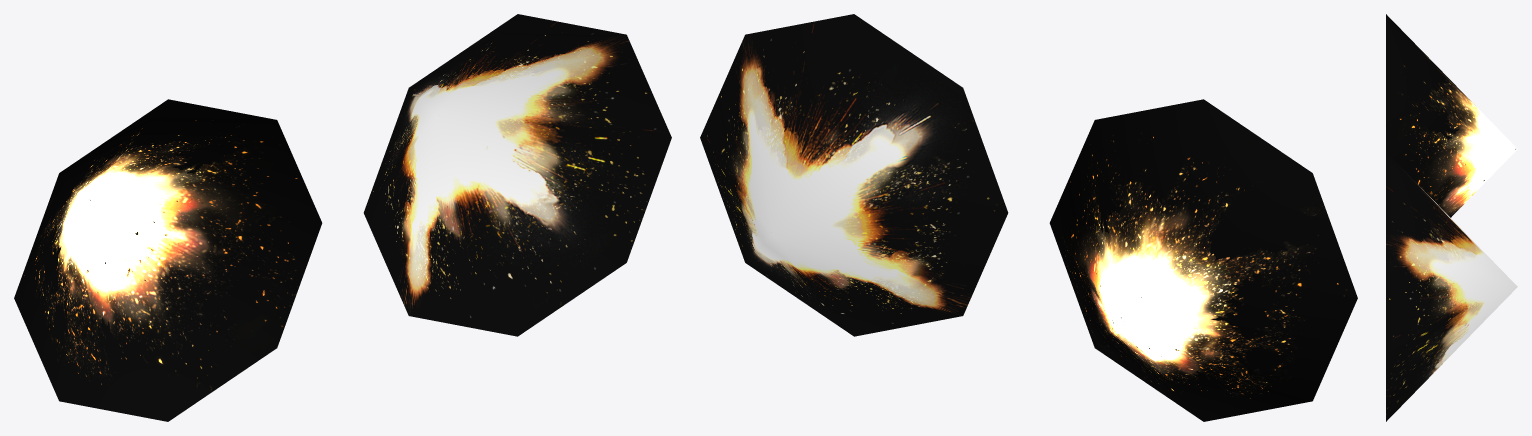
3 renders of one model, left to right at view 1: azimuth 30°, elevation 25°; view 2: azimuth 150°, elevation 25°; view 3: azimuth 270°, elevation 25°, orthographic. The views are drawn at different scales.
Parts seen in each view (by area): view 1: muzzlemesh, muzzlemesh_1; view 2: muzzlemesh, muzzlemesh_1; view 3: muzzlemesh, muzzlemesh_1.
Boxes of the visible parts, x1,y1,x2,y2 form: muzzlemesh: [363, 14, 671, 336]; muzzlemesh_1: [14, 99, 322, 421]; muzzlemesh: [700, 14, 1008, 336]; muzzlemesh_1: [1049, 99, 1357, 421]; muzzlemesh: [1386, 152, 1517, 421]; muzzlemesh_1: [1386, 14, 1517, 217].
Bounding box in the file's own units: 427 × 200 × 91.76.
2 materials, 2 textured.
